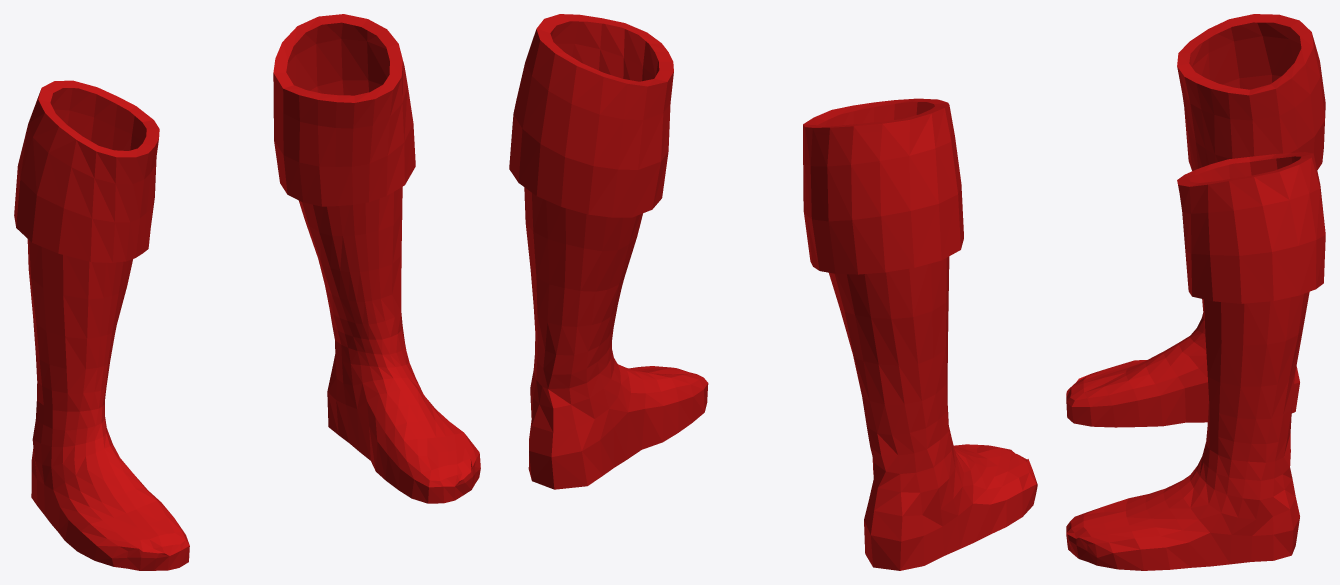
Rendered from mhw_culturalibre_hero_boots_1.glb.
3 views of the same model, side by side, from view 1: azimuth 30°, elevation 25°; view 2: azimuth 150°, elevation 25°; view 3: azimuth 270°, elevation 25° (orthographic). The views are drawn at different scales.
Parts seen in each view (by area): view 1: mhw_culturalibre_hero_boots_1; view 2: mhw_culturalibre_hero_boots_1; view 3: mhw_culturalibre_hero_boots_1.
Boxes of the visible parts, x1,y1,x2,y2 form: mhw_culturalibre_hero_boots_1: (14, 14, 480, 570); mhw_culturalibre_hero_boots_1: (509, 14, 1037, 570); mhw_culturalibre_hero_boots_1: (1066, 14, 1325, 570).
Size of the model in its own units: 0.5473 by 0.5337 by 0.3231.
1 material, 1 textured.
